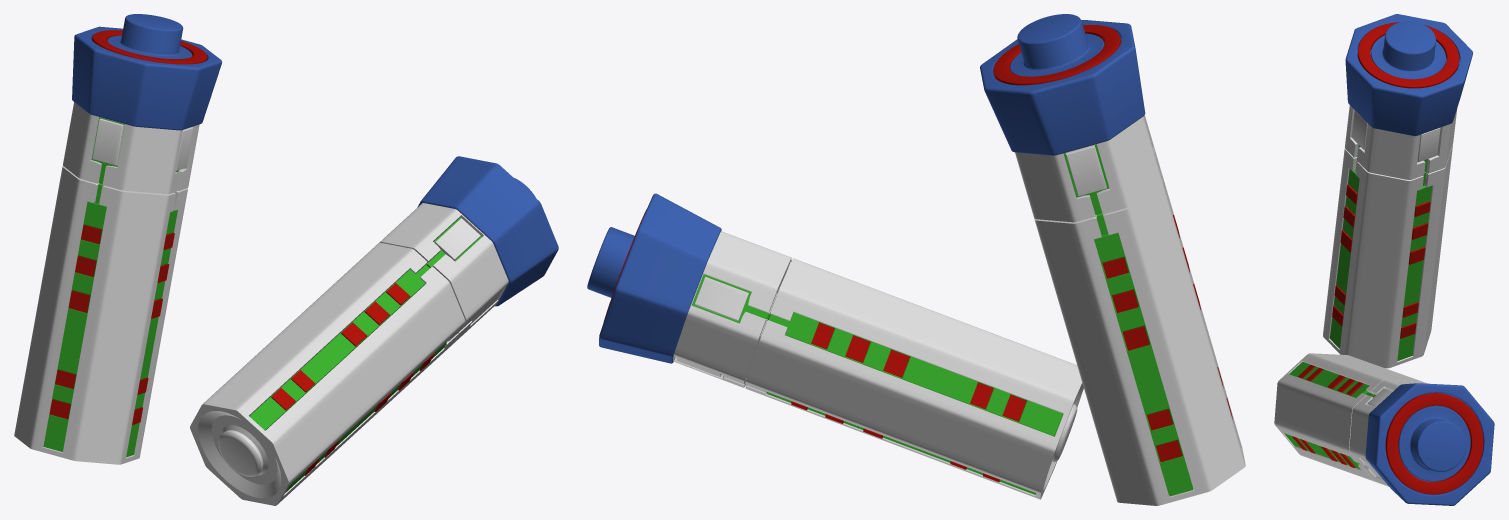
Rendered from clip upload.fbx.
3 views of the same model, side by side, from view 1: azimuth 30°, elevation 25°; view 2: azimuth 150°, elevation 25°; view 3: azimuth 270°, elevation 25° (orthographic). The views are drawn at different scales.
Parts seen in each view (by area): view 1: clip.001, clip.003; view 2: clip.003, clip.001; view 3: clip.001, clip.003.
Part boxes in pixels (x1,y1,x2,y2): clip.001: (14, 14, 221, 464); clip.003: (190, 156, 558, 505); clip.003: (587, 193, 1083, 499); clip.001: (980, 14, 1245, 505); clip.001: (1323, 14, 1472, 368); clip.003: (1274, 353, 1494, 505).
Bounding box in the file's own units: 183 × 151 × 74.1.
